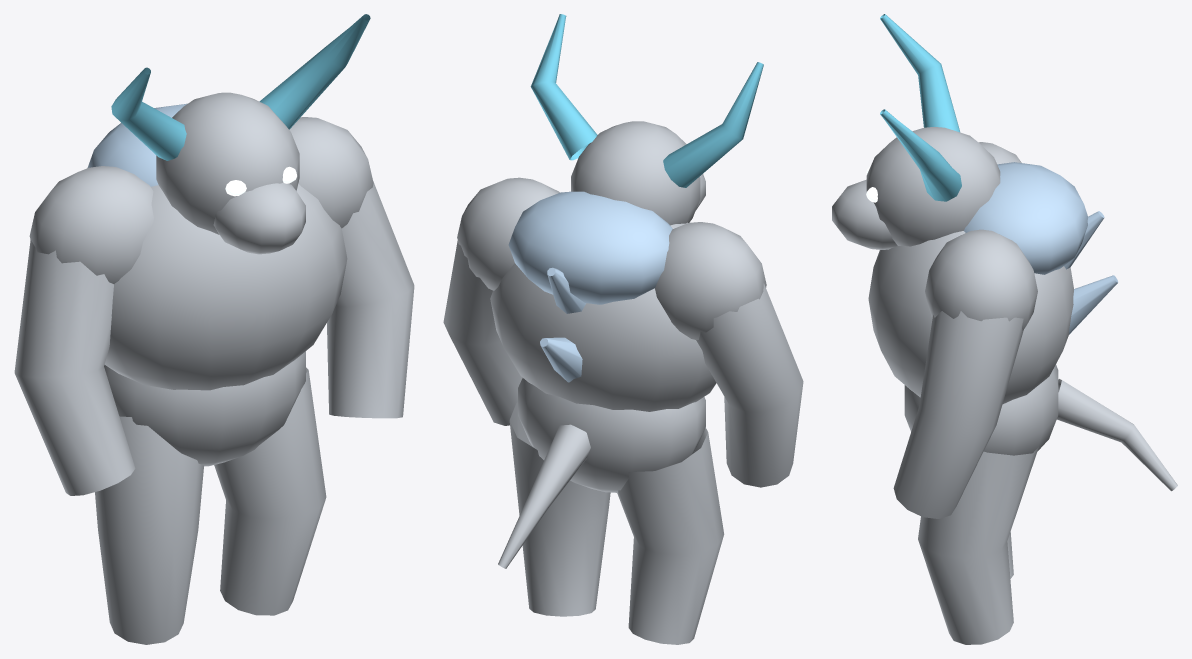
Rendered from mon_yeti.glb.
3 renders of one model, left to right at view 1: azimuth 30°, elevation 25°; view 2: azimuth 150°, elevation 25°; view 3: azimuth 270°, elevation 25°, orthographic. The views are drawn at different scales.
Visible parts, largest first — view 1: beast_body, beast_horns, beast_ridge; view 2: beast_body, beast_ridge, beast_horns; view 3: beast_body, beast_ridge, beast_horns.
Part boxes in pixels (x1,y1,x2,y2): beast_body: (14, 92, 414, 644); beast_horns: (111, 14, 370, 160); beast_ridge: (87, 103, 187, 186); beast_body: (443, 121, 803, 644); beast_ridge: (508, 191, 672, 382); beast_horns: (530, 14, 763, 187); beast_body: (832, 127, 1177, 644); beast_ridge: (964, 162, 1118, 334); beast_horns: (880, 14, 961, 201).
Bounding box in the file's own units: 2.01 × 3.03 × 1.73.
